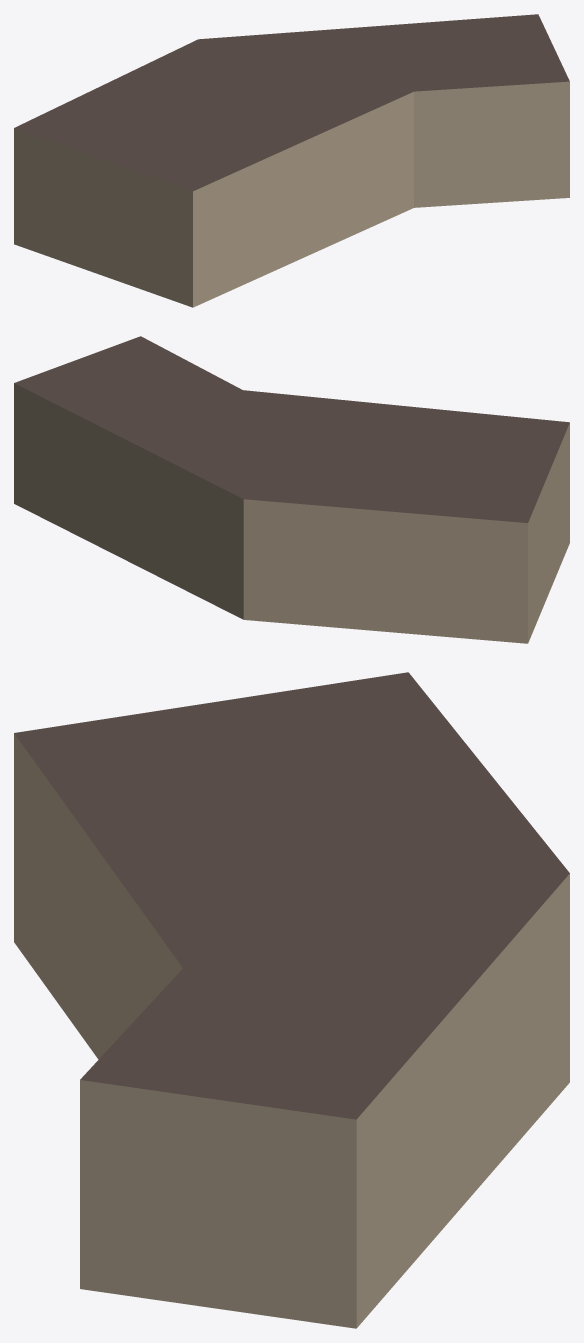
3 views of the same model, one above another, from view 1: azimuth 30°, elevation 25°; view 2: azimuth 150°, elevation 25°; view 3: azimuth 270°, elevation 25° (orthographic). The views are drawn at different scales.
Parts seen in each view (by area): view 1: HP-w1512911269; view 2: HP-w1512911269; view 3: HP-w1512911269.
Boxes of the visible parts, x1,y1,x2,y2 form: HP-w1512911269: [14, 14, 569, 307]; HP-w1512911269: [14, 336, 569, 643]; HP-w1512911269: [14, 672, 569, 1328].
Size of the model in its own units: 41.3 by 9 by 21.69.
